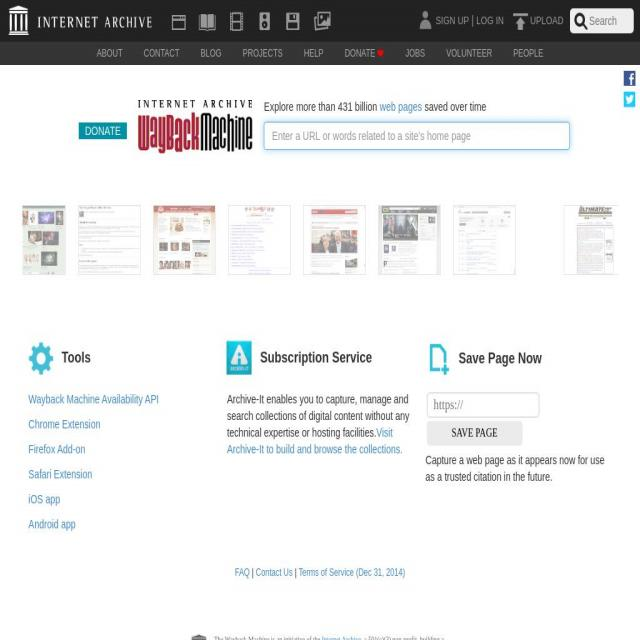button: (138, 94, 253, 156), (5, 3, 160, 42), (378, 205, 440, 276), (452, 206, 516, 274), (154, 205, 215, 275), (228, 207, 291, 274), (303, 207, 366, 274), (78, 206, 140, 274), (564, 206, 617, 276), (24, 206, 66, 274), (427, 421, 522, 446), (415, 6, 471, 34), (512, 8, 564, 34), (472, 8, 513, 34), (78, 122, 128, 138), (312, 0, 330, 42), (199, 0, 216, 42), (285, 0, 301, 42), (171, 0, 186, 42), (229, 0, 244, 42), (257, 0, 272, 42), (446, 48, 492, 61), (243, 48, 283, 61), (344, 48, 384, 61), (143, 48, 180, 61), (513, 48, 544, 61), (96, 48, 123, 61), (200, 48, 222, 61), (405, 48, 426, 61), (304, 48, 324, 61), (624, 71, 638, 87), (624, 92, 636, 107)
field: (264, 122, 570, 150), (426, 392, 540, 418), (569, 8, 633, 34)
